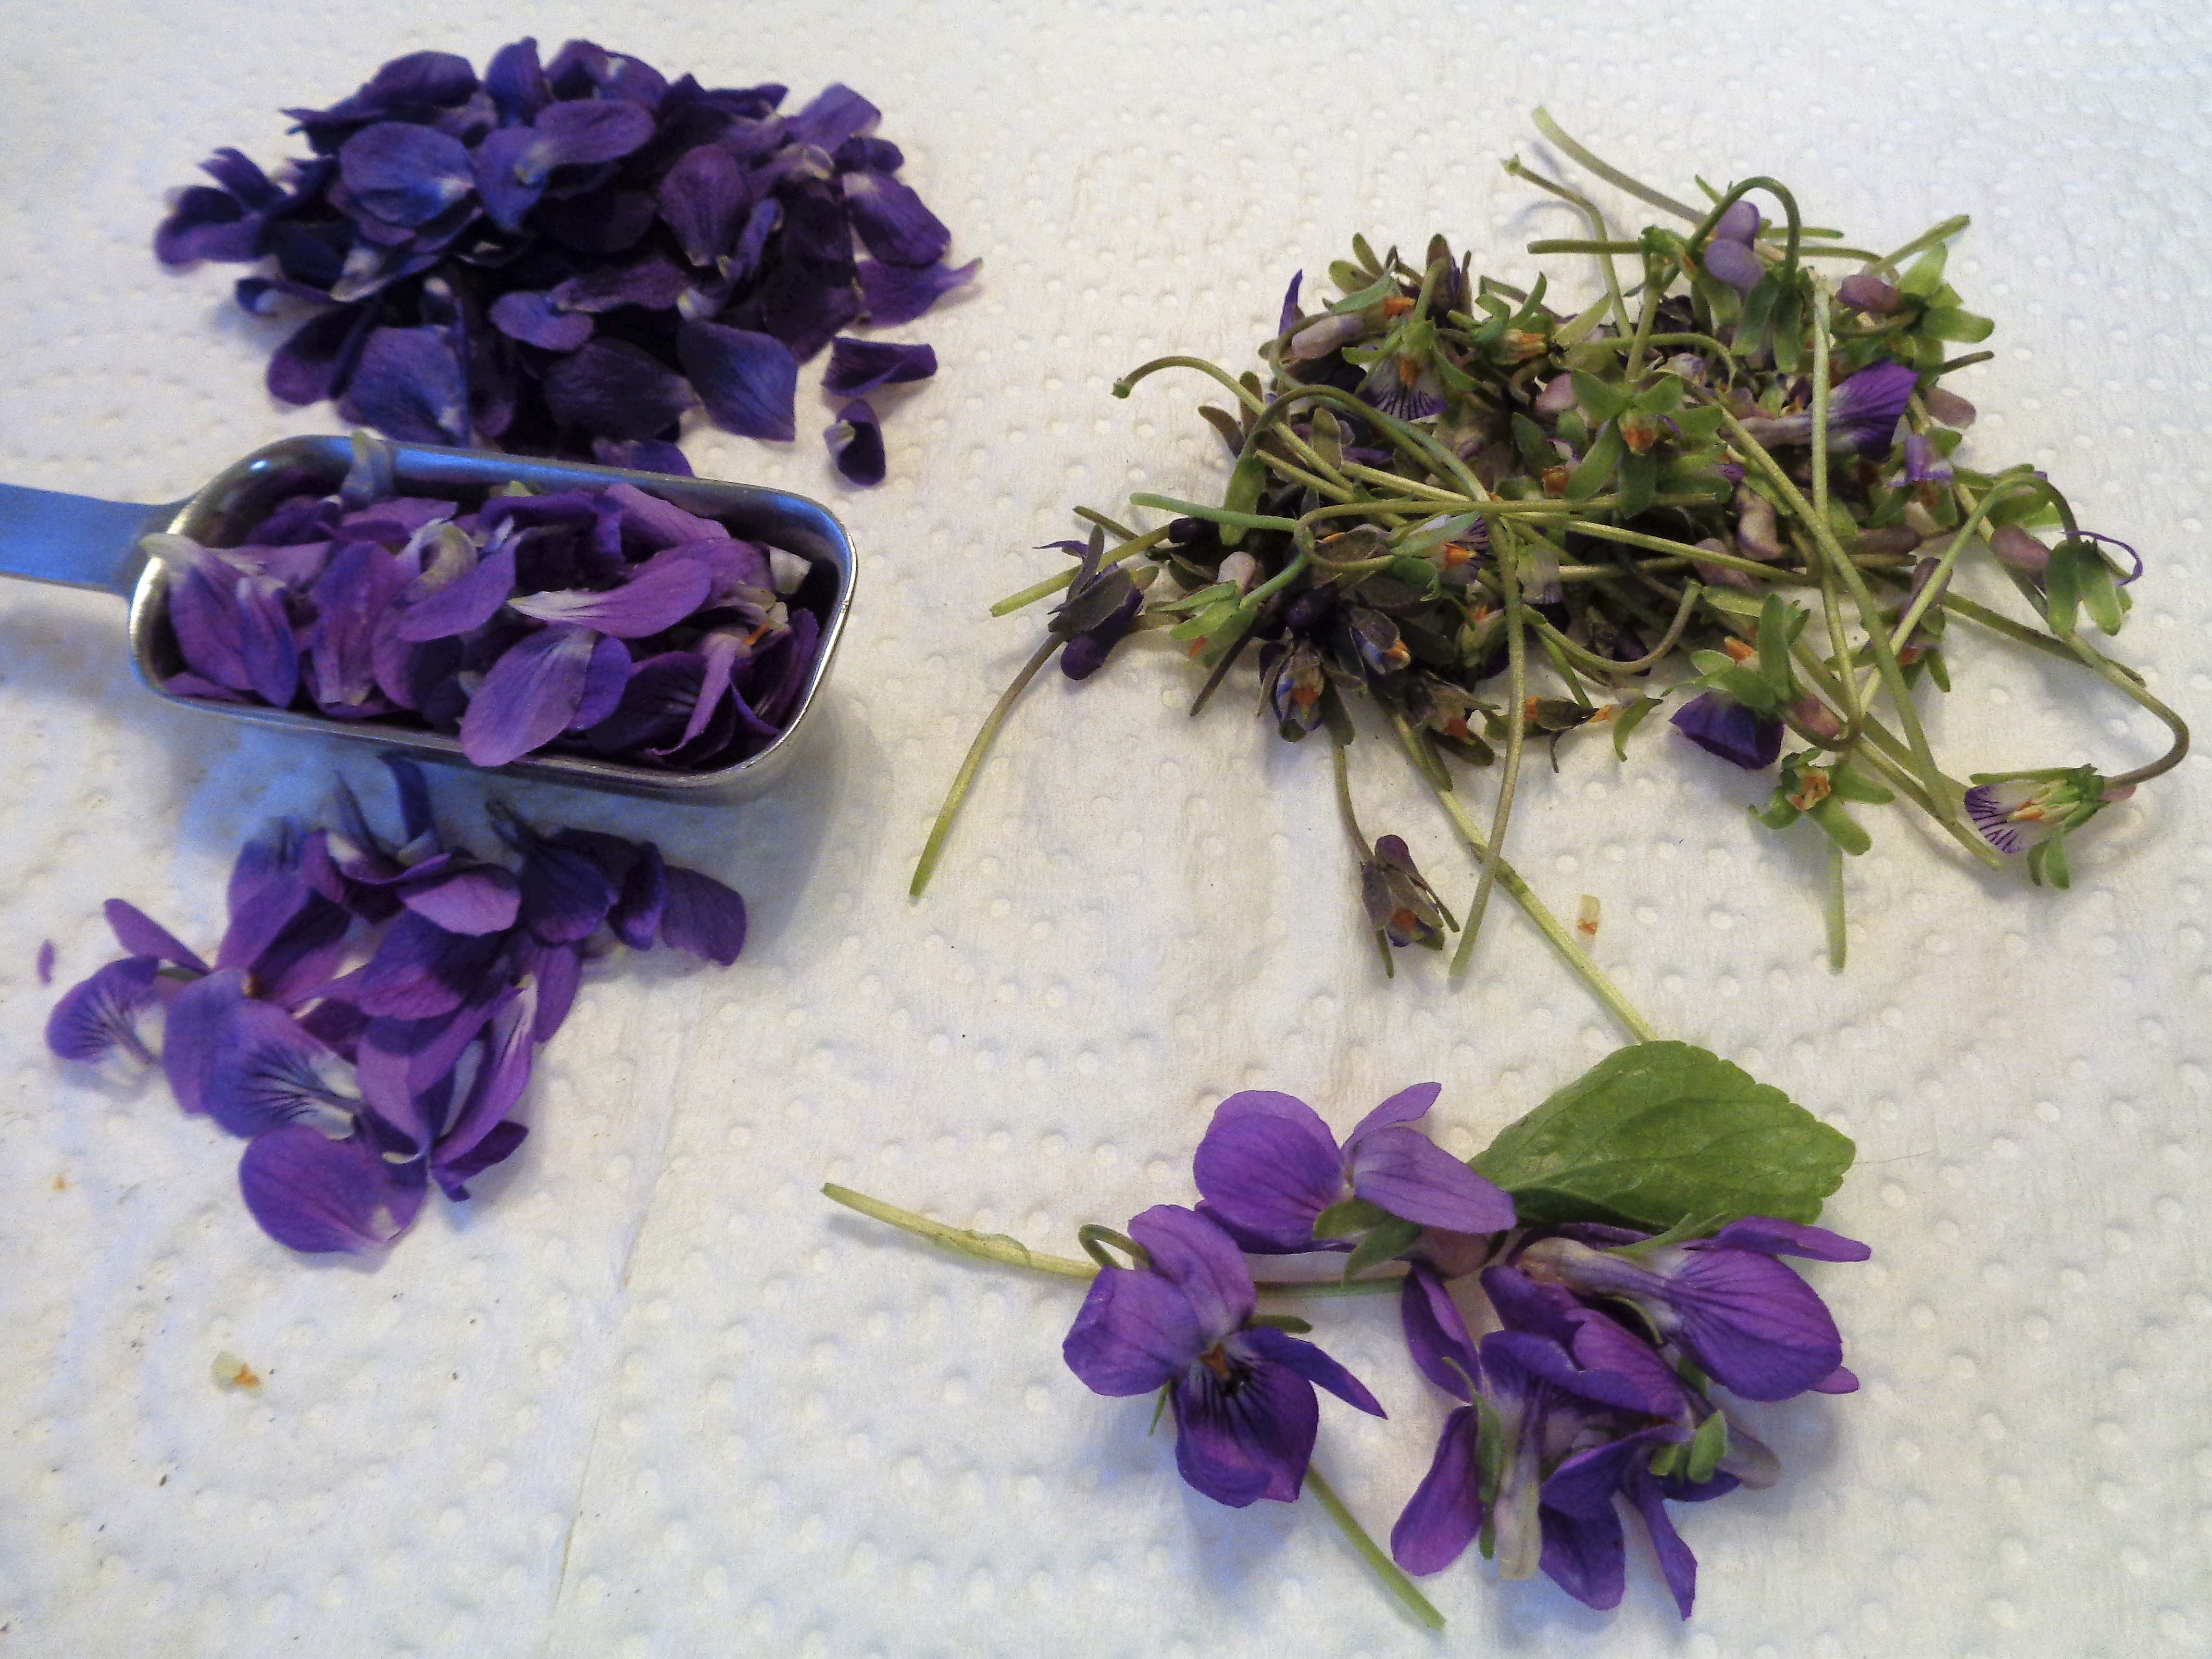violet: (171, 63, 995, 490), (70, 826, 725, 1262), (150, 479, 840, 805), (1414, 1229, 1865, 1621), (1069, 1216, 1351, 1509), (1185, 1049, 1461, 1281)
